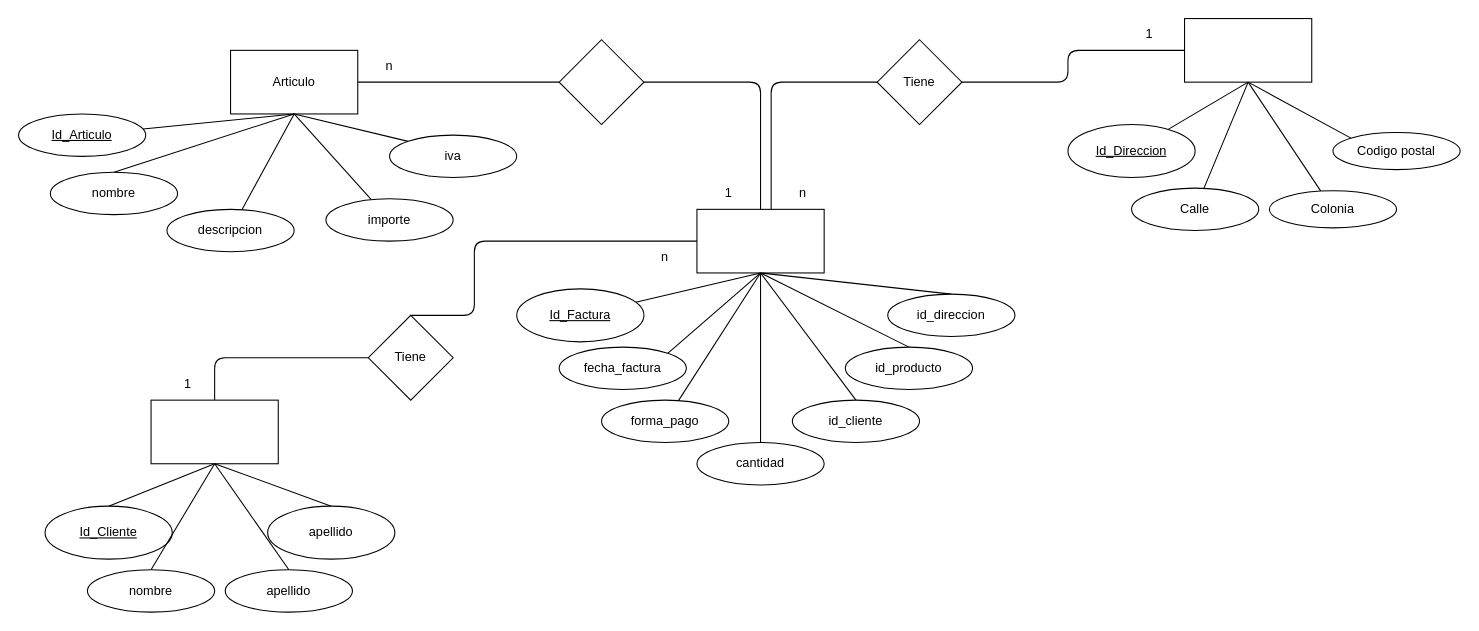
The diagram is 1479 pixels wide and 631 high, and some of its shapes have lost their labels. The box of each missing label's shape, as (x1, y1, x2, y2) in pixels:
Cliente: (150, 399, 278, 464)
Contiene: (558, 39, 644, 125)
Direccion: (1183, 17, 1312, 82)
Factura: (696, 208, 824, 273)
